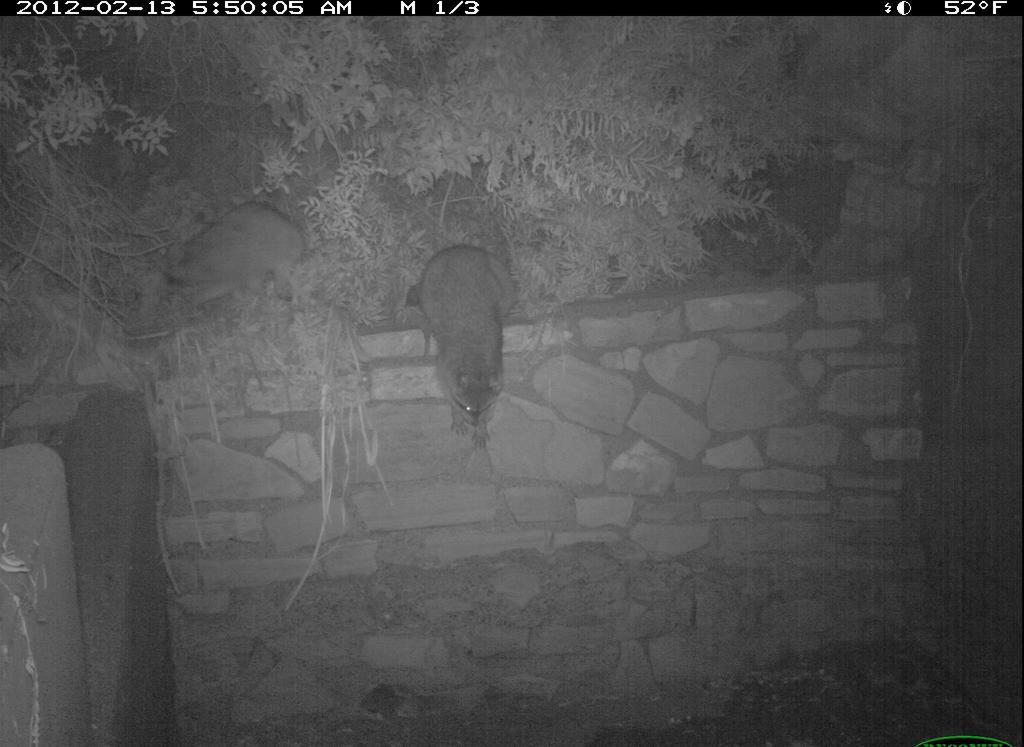raccoon: (393, 237, 533, 454), (157, 182, 328, 321)
